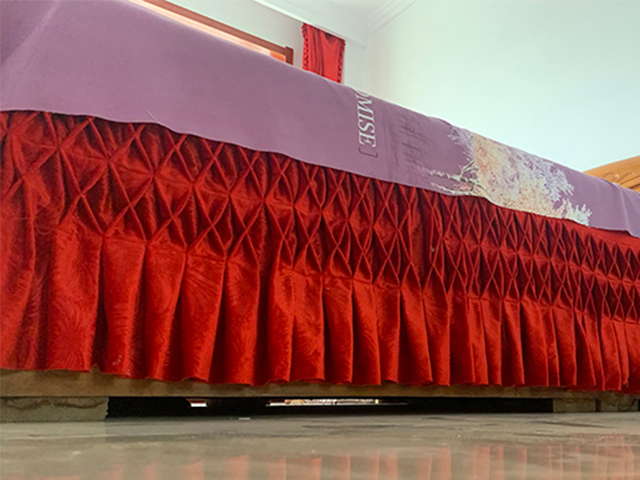bed: (1, 1, 638, 420)
